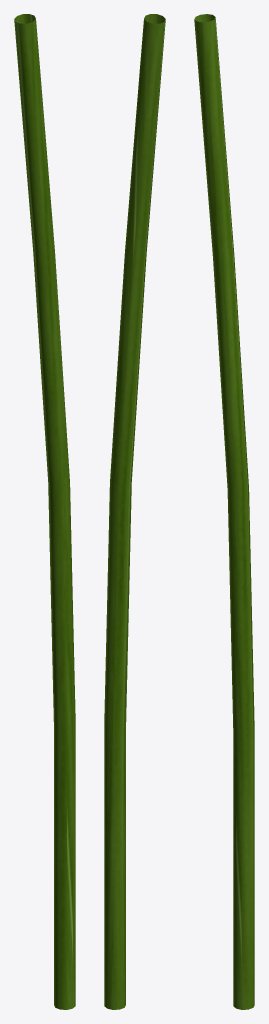
Rendered from Stem1.fbx.
The picture shows the model from 3 angles, left to right: view 1: azimuth 30°, elevation 25°; view 2: azimuth 150°, elevation 25°; view 3: azimuth 330°, elevation 25°; orthographic projection.
Parts seen in each view (by area): view 1: Stem; view 2: Stem; view 3: Stem.
Part boxes in pixels (x1,y1,x2,y2): Stem: (14,14,75,1009); Stem: (104,14,165,1009); Stem: (194,14,254,1009).
Bounding box in the file's own units: 6.17 × 99.98 × 1.9.
